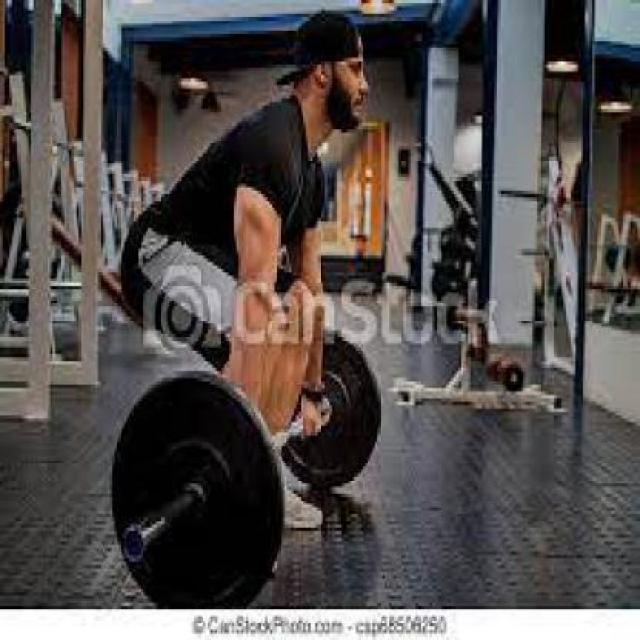barbell: (108, 362, 288, 602)
